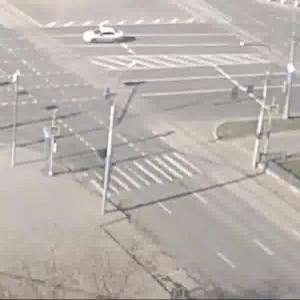car: (83, 22, 125, 47)
